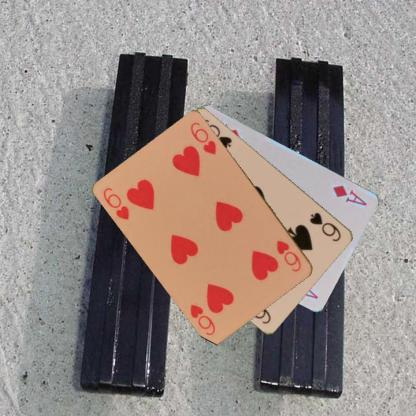6h: (274, 238, 304, 274), (101, 185, 131, 221)
6s: (308, 209, 342, 243)
Ad: (329, 182, 369, 207)
